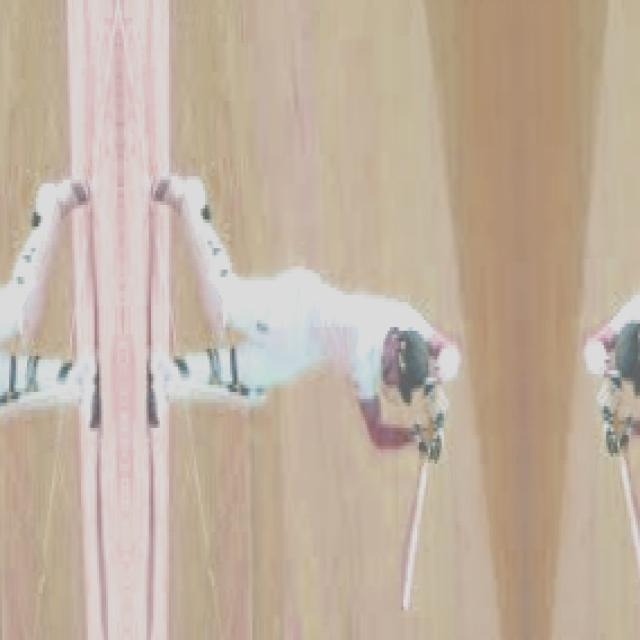bat: (394, 456, 430, 615)
